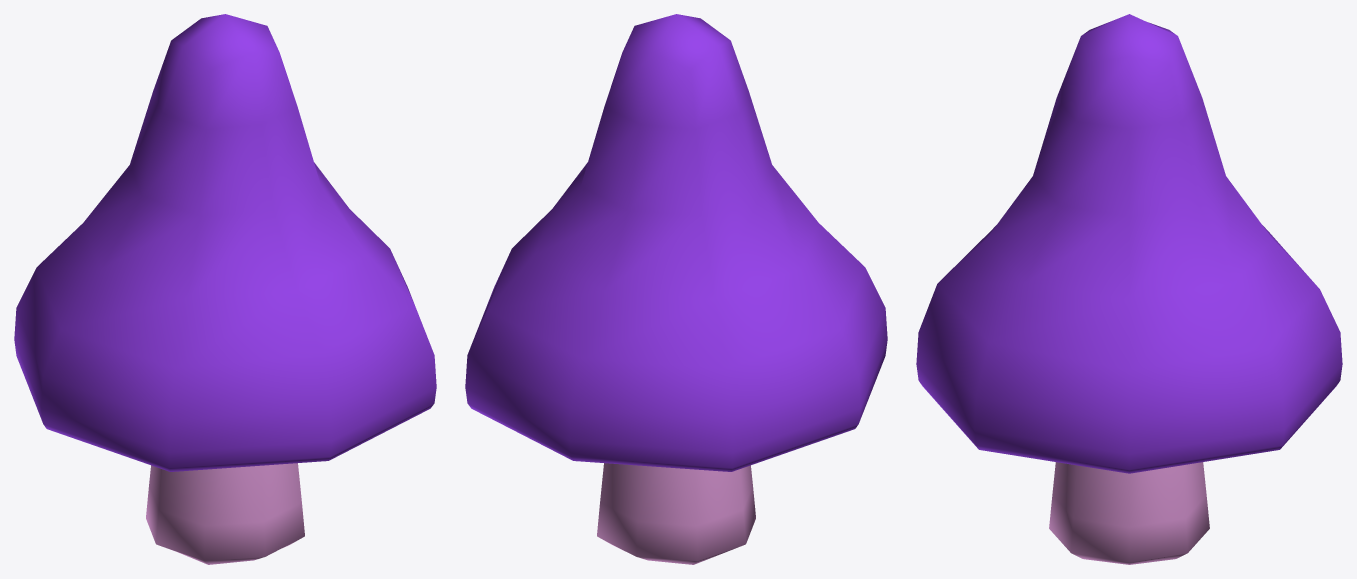
File: Mushroom.fbx
3 views of the same model, side by side, from view 1: azimuth 30°, elevation 25°; view 2: azimuth 150°, elevation 25°; view 3: azimuth 270°, elevation 25° (orthographic).
Visible parts, largest first — view 1: MushRoom; view 2: MushRoom; view 3: MushRoom.
Part boxes in pixels (x1,y1,x2,y2): MushRoom: [14, 14, 436, 564]; MushRoom: [465, 14, 887, 564]; MushRoom: [916, 14, 1342, 564].
Bounding box in the file's own units: 40.63 × 55.75 × 40.63.
